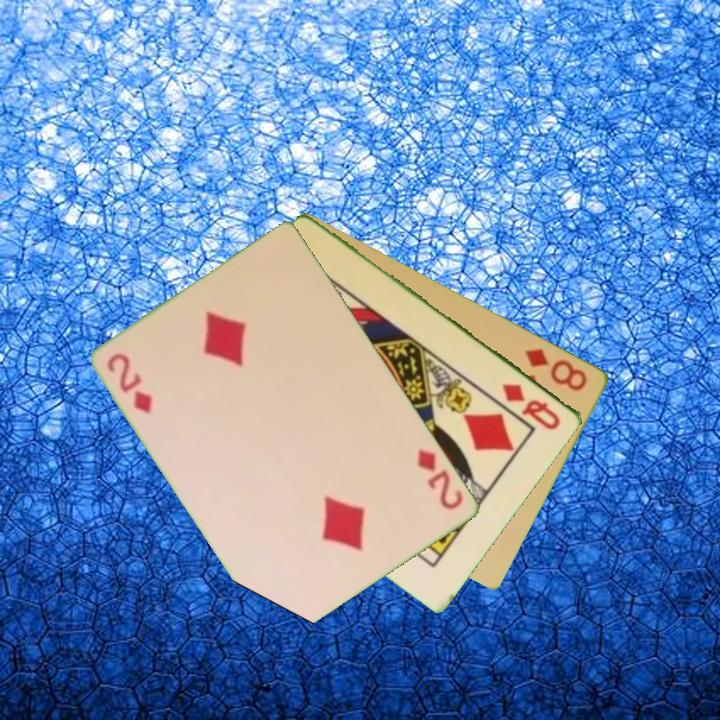2d: (414, 445, 467, 513), (104, 349, 156, 417)
8d: (521, 344, 591, 394)
Qd: (499, 379, 564, 433)
